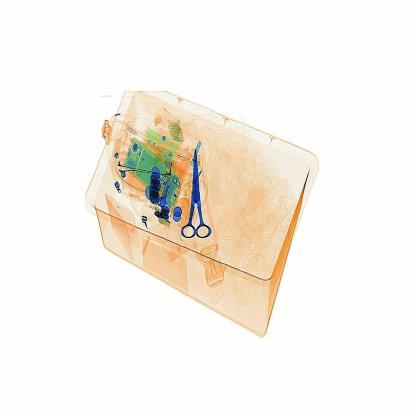gun: (182, 138, 219, 247)
